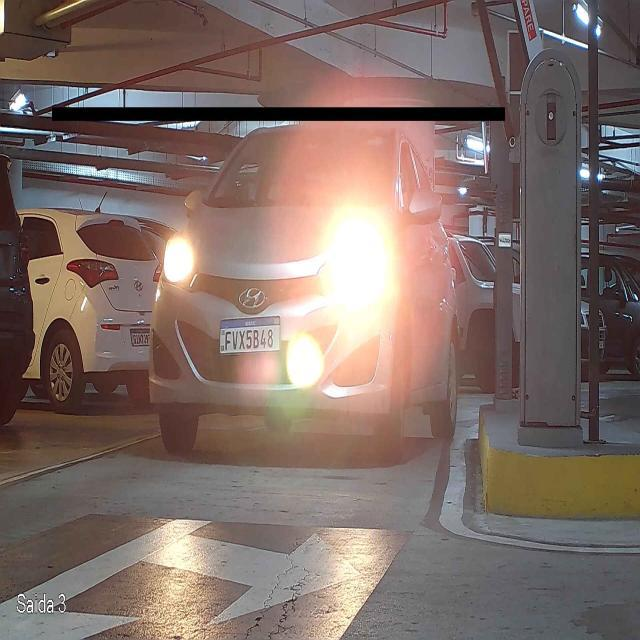mercosul_plate: (217, 312, 284, 358)
